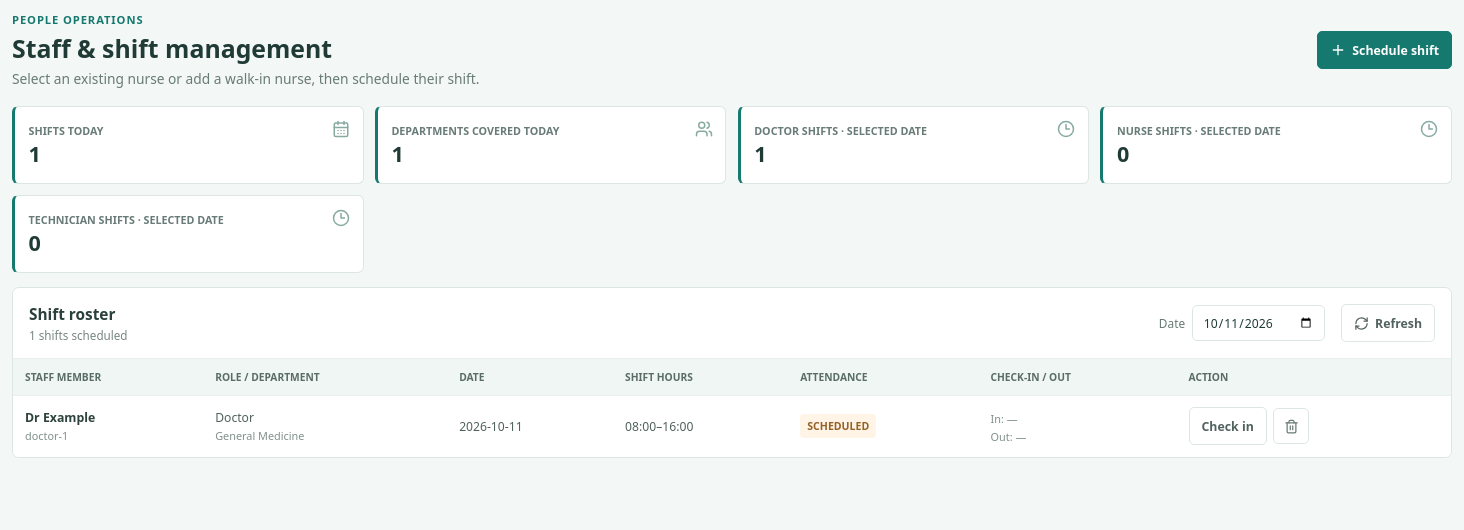
Test: records doctor check-in and check-out against the scheduled shift
Click the button "Check in" at (1228, 426), box [1188,407,1267,445]
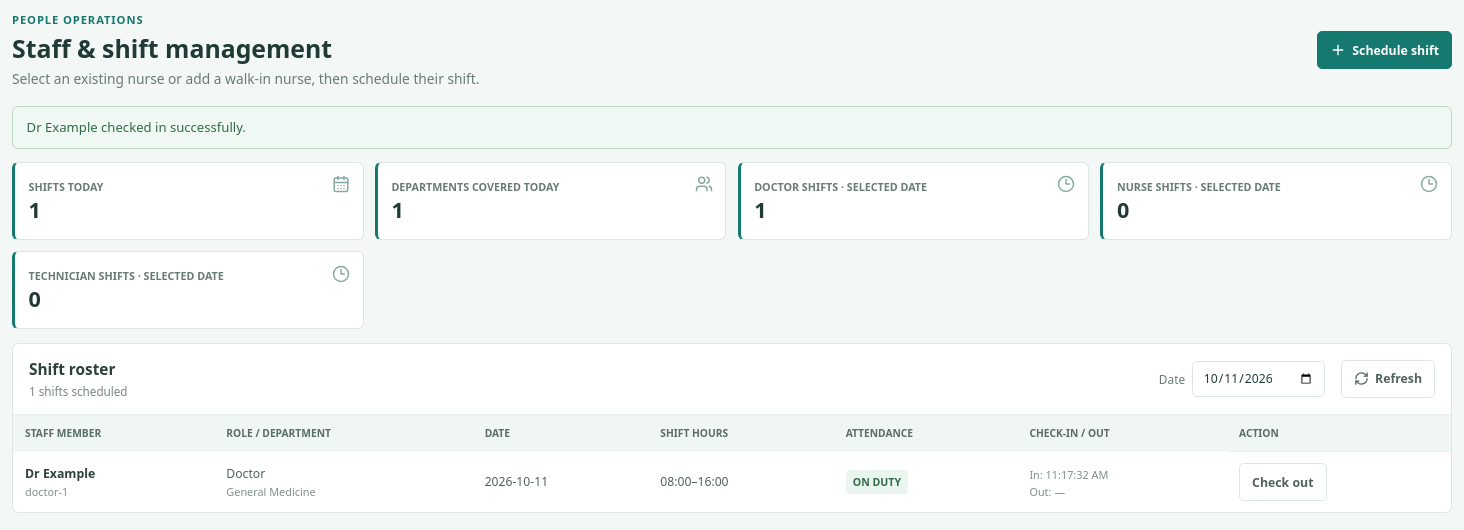
Check: the button "Check out" is shown
Click the button "Check out" at (1283, 482), box [1239,463,1326,501]
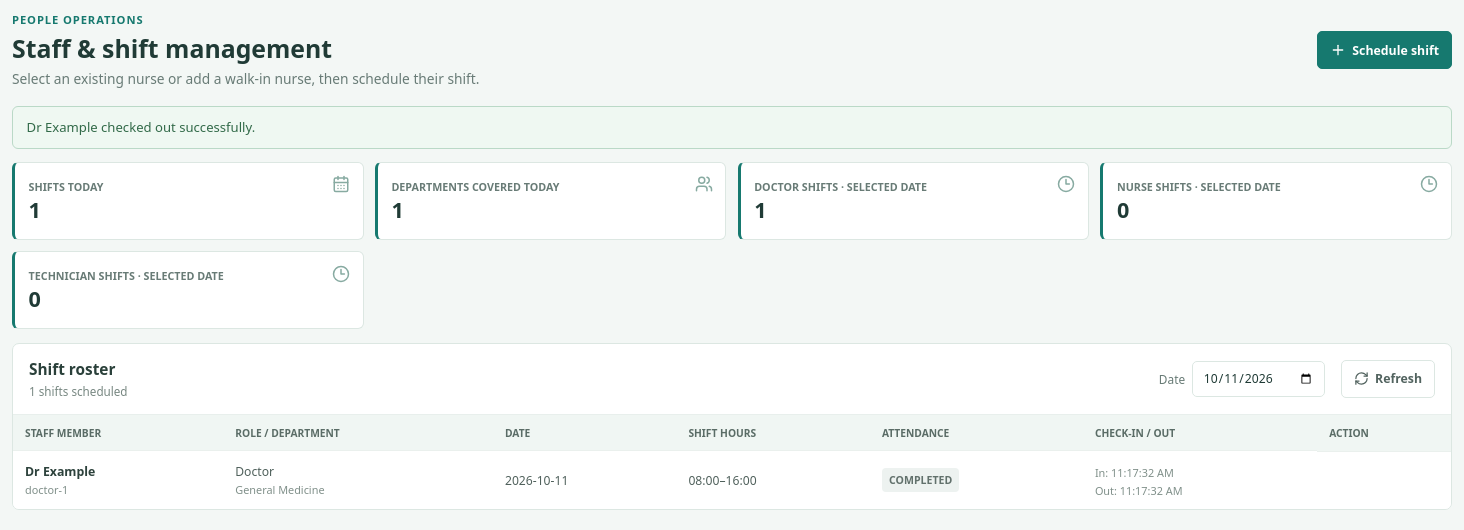
Check: the text "COMPLETED" is shown, box [882,468,959,492]
